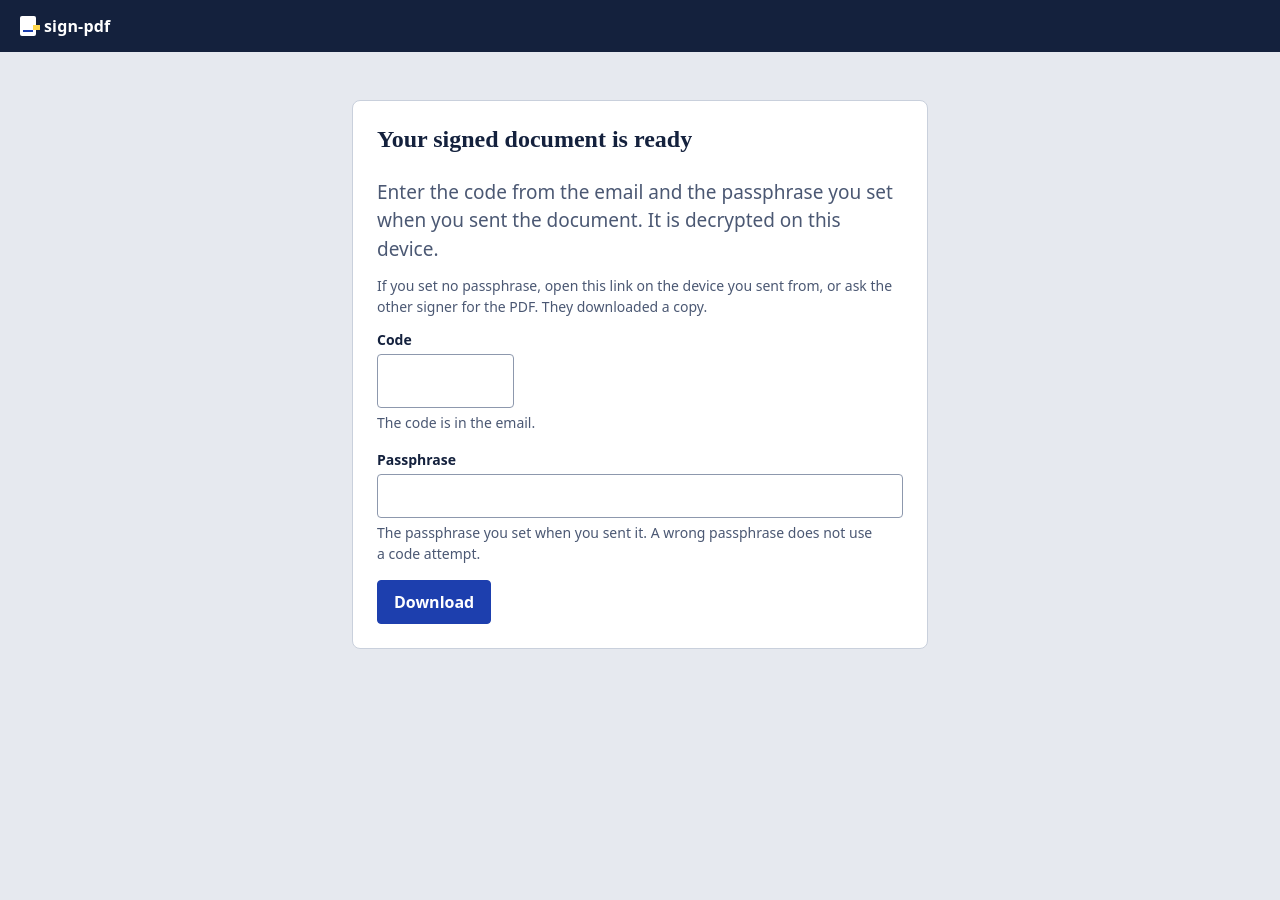
Test: collect the signed PDF › on a device without the kept key (issue #105) › asks for the code and the passphrase, and fetches nothing before both are there
Check: the element with test id "relay-collect" shows "Your signed document is ready", box [377,126,692,152]
Check: the text "The passphrase you set when you sent it. A wrong passphrase does not use a code attempt." is shown, box [377,523,872,563]
Step 1. Type "123456" into the field with test id "relay-collect-code" → (446, 381), box [377,354,514,408]
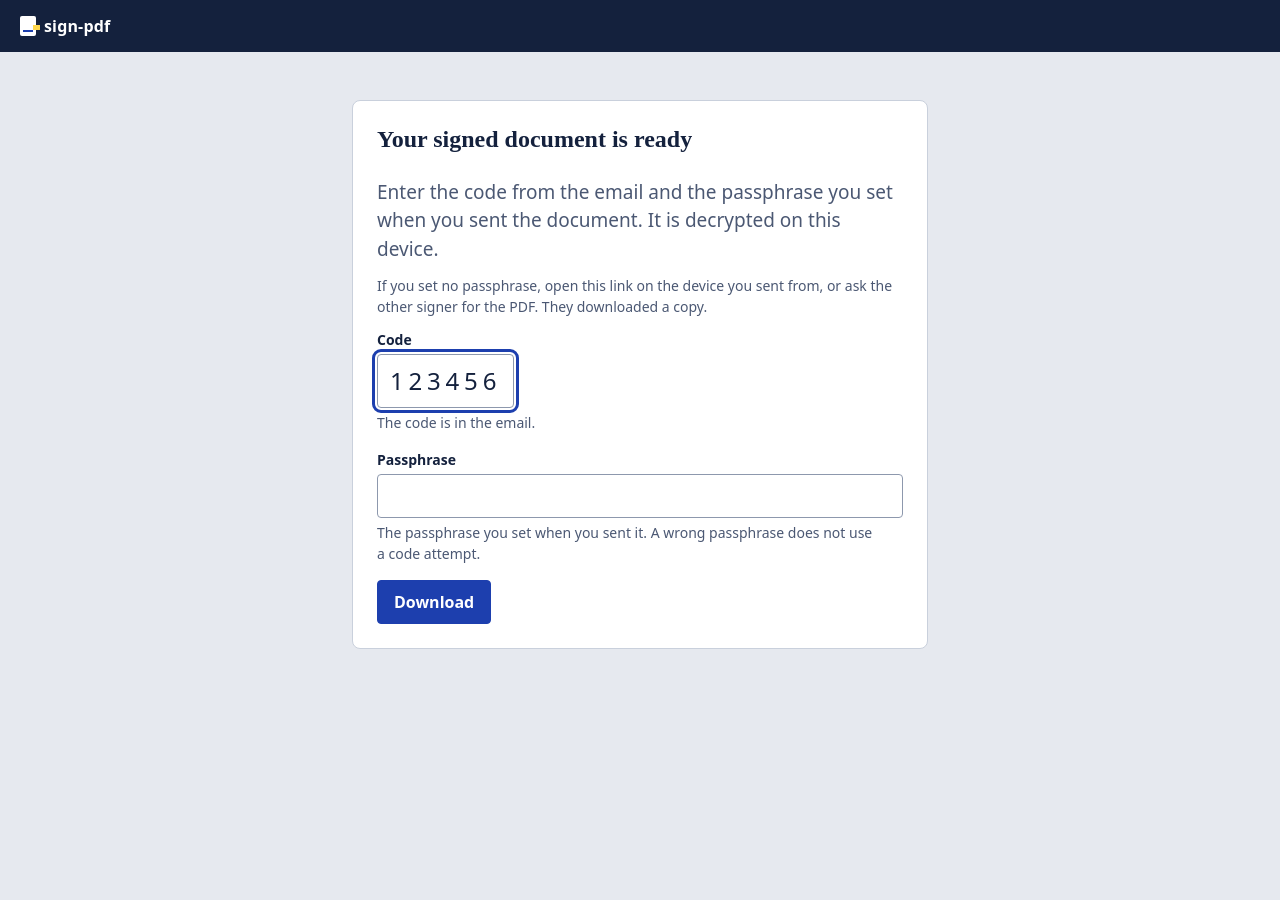
Step 2. Click the button with test id "relay-collect-button" → (434, 602), box [377,580,491,624]
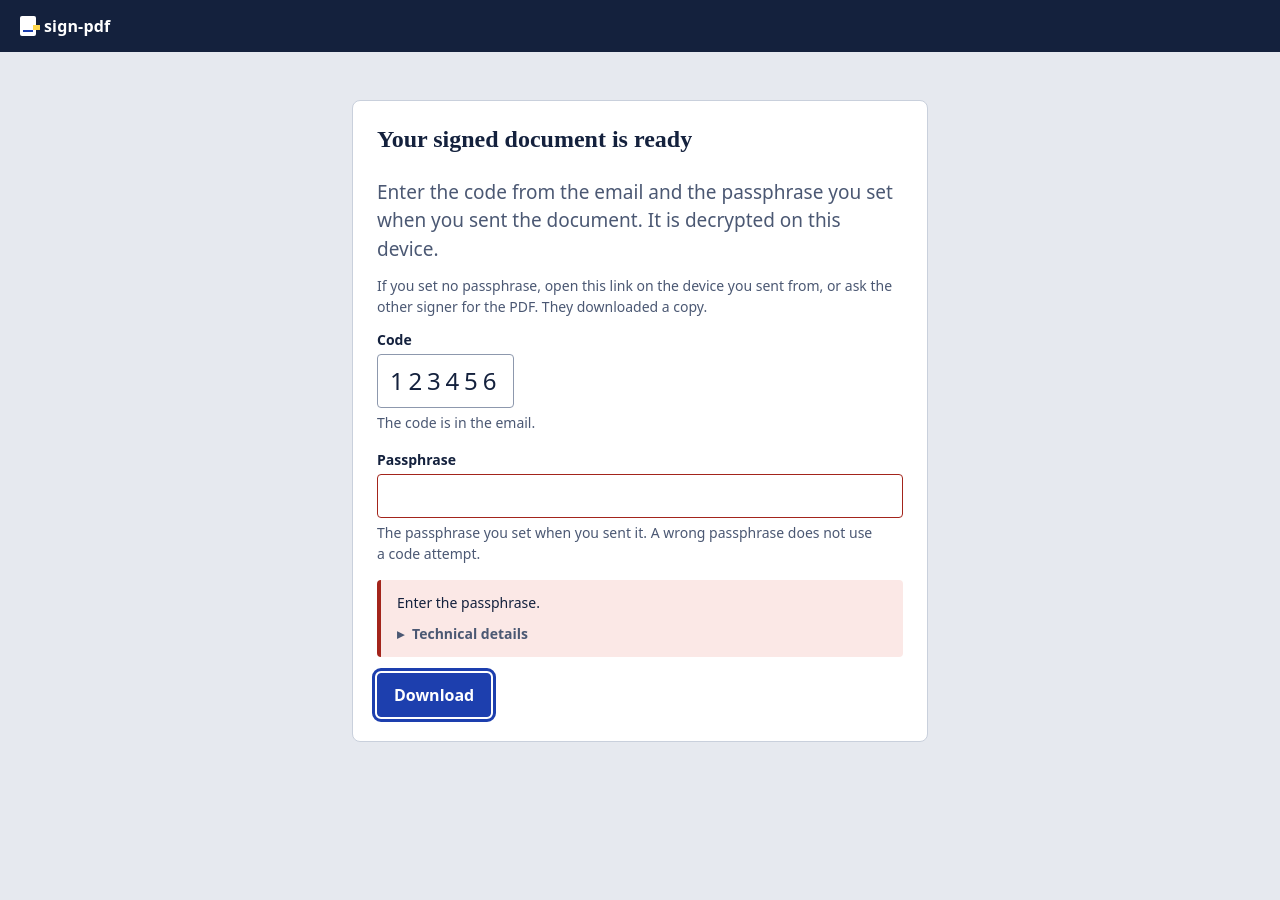
Check: the message with test id "relay-collect-error" shows "Enter the passphrase.", box [397,593,540,612]
